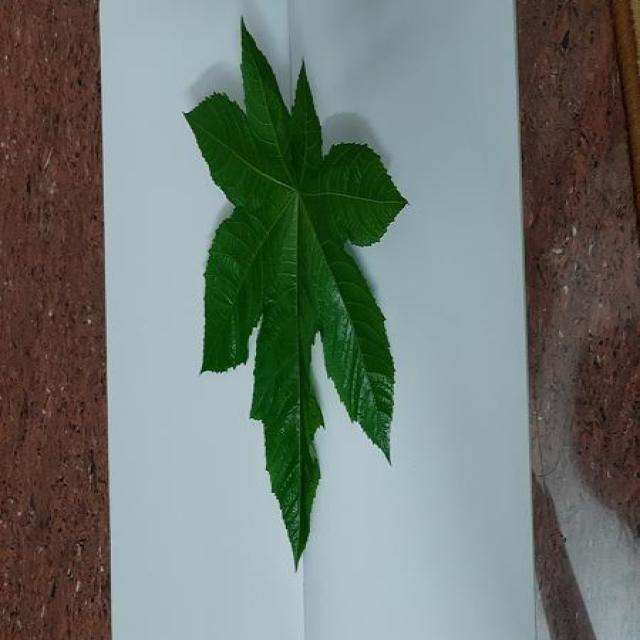castor: (185, 24, 407, 566)
